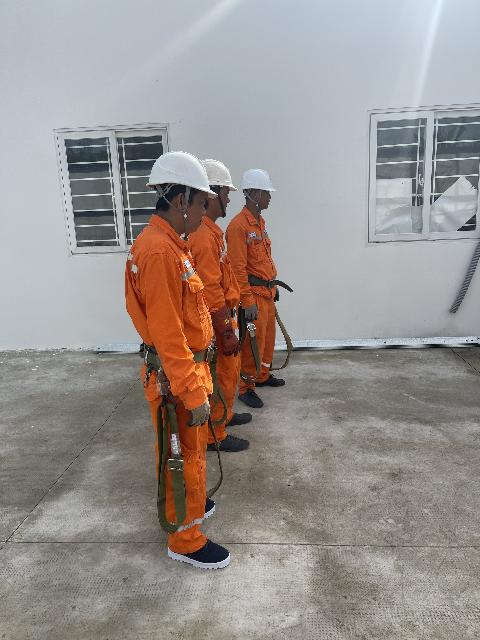gloves: (184, 395, 218, 430), (217, 325, 242, 362), (241, 297, 263, 326)
harness: (131, 335, 214, 370), (242, 265, 291, 295), (222, 303, 240, 320)
helmet: (144, 143, 216, 197), (239, 159, 278, 201), (198, 151, 235, 195)
shoes: (166, 529, 243, 576), (197, 418, 250, 449), (183, 487, 220, 519), (256, 367, 287, 393), (222, 403, 252, 429), (236, 386, 266, 411)
